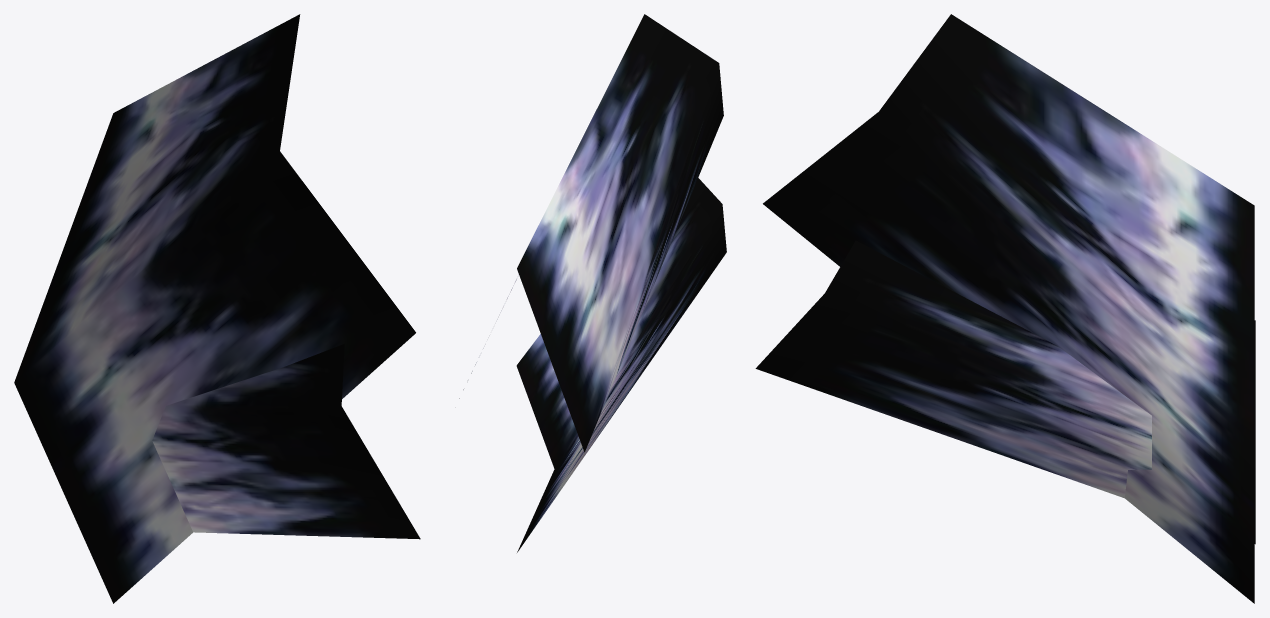
File: Magic02.glb
3 views of the same model, side by side, from view 1: azimuth 30°, elevation 25°; view 2: azimuth 150°, elevation 25°; view 3: azimuth 270°, elevation 25° (orthographic). The views are drawn at different scales.
Visible parts, largest first — view 1: model_Magic02; view 2: model_Magic02; view 3: model_Magic02.
Boxes of the visible parts, box(x1,y1,x2,y2) form: model_Magic02: box(14, 14, 420, 603); model_Magic02: box(459, 14, 726, 552); model_Magic02: box(755, 14, 1255, 603).
Bounding box in the file's own units: 0.9099 × 3.19 × 2.45.
1 material, 1 textured.
